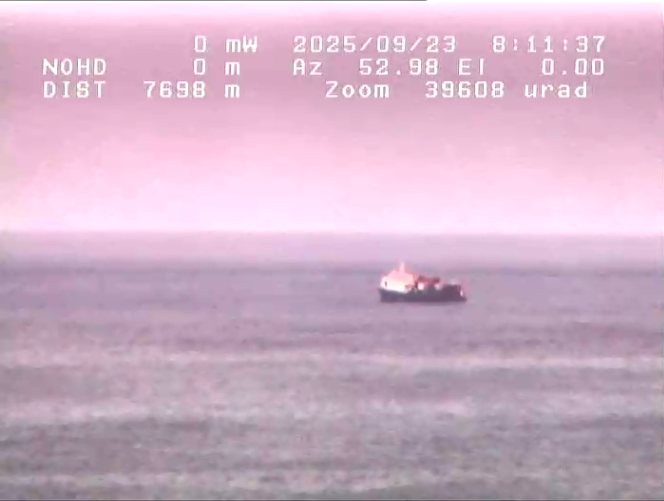TANKER: (367, 253, 475, 312)
